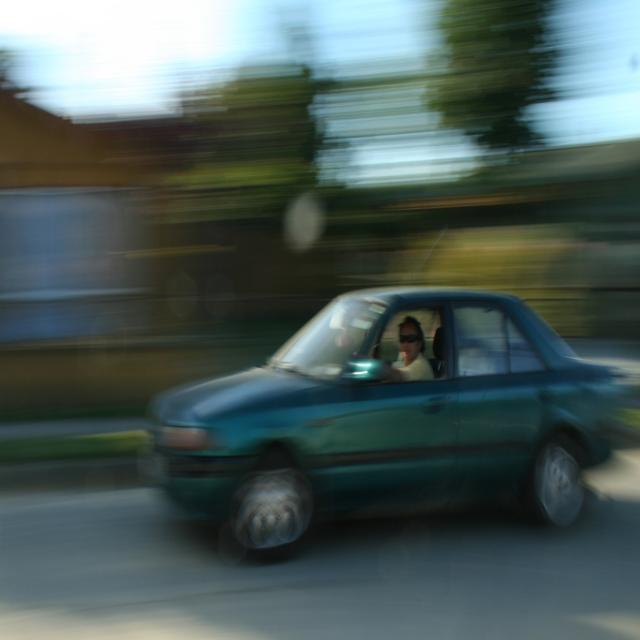car: (140, 224, 619, 564)
